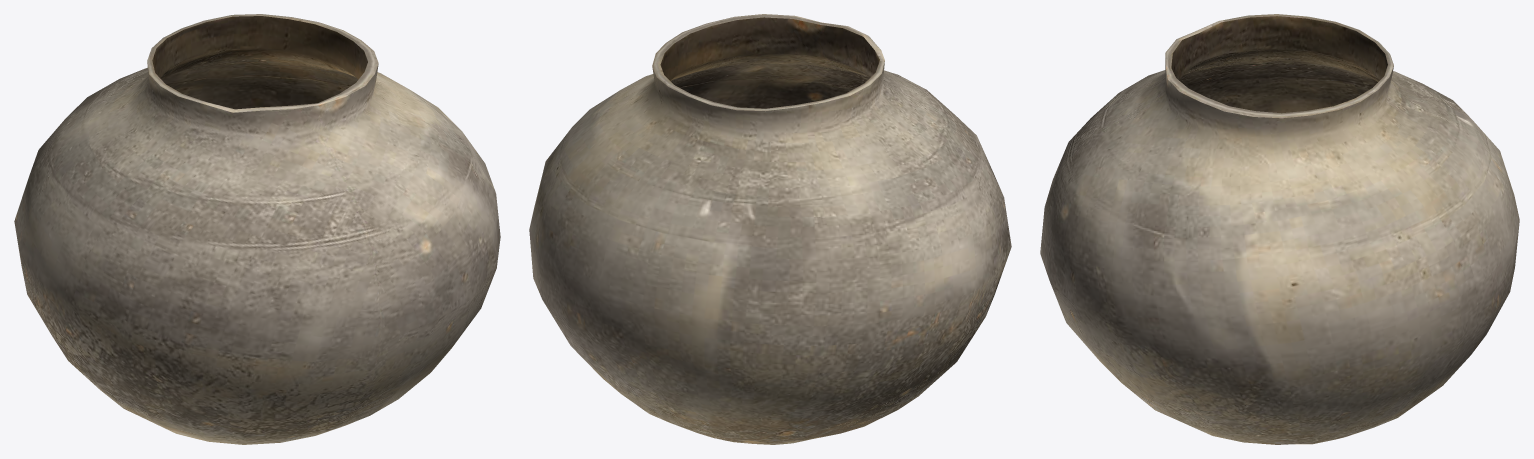
The model's file is antiquity6_61.fbx.
3 views of the same model, side by side, from view 1: azimuth 30°, elevation 25°; view 2: azimuth 150°, elevation 25°; view 3: azimuth 270°, elevation 25° (orthographic).
Parts seen in each view (by area): view 1: 0499_T; view 2: 0499_T; view 3: 0499_T.
Part boxes in pixels (x1=…): 0499_T: x1=14, y1=14, x2=500, y2=444; 0499_T: x1=529, y1=14, x2=1011, y2=444; 0499_T: x1=1040, y1=14, x2=1519, y2=444.
Bounding box in the file's own units: 37.55 × 29.87 × 37.07.
Materials: 1 (1 with a texture image).
